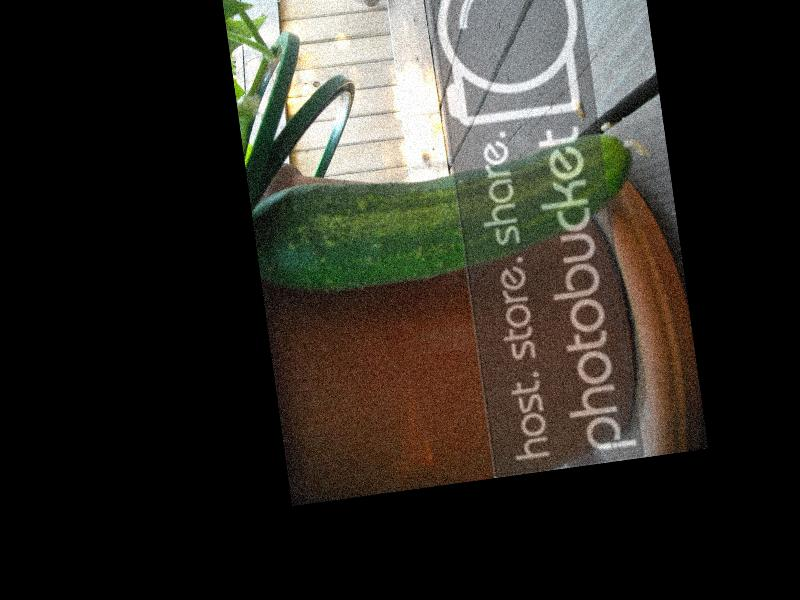Cucumber: (251, 127, 660, 300)
